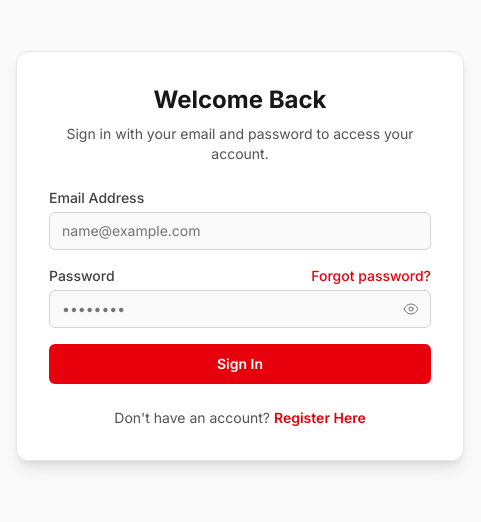
Login Page › displays error message on login failure
Type "wrong@test.com" into the field with placeholder "name@example.com" at (240, 231), box [49,212,431,250]
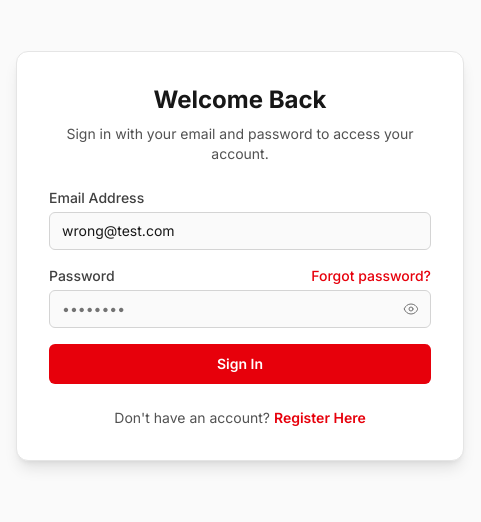
Type "wrongpass" into the password field with placeholder "••••••••" at (240, 309), box [49,290,431,328]
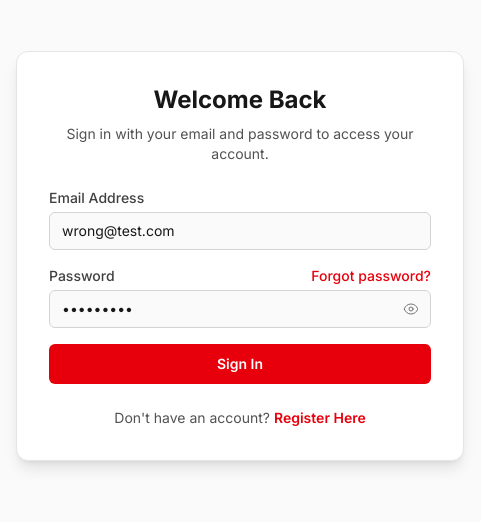
Submit the form from the button "Sign In", box [49,344,431,384]
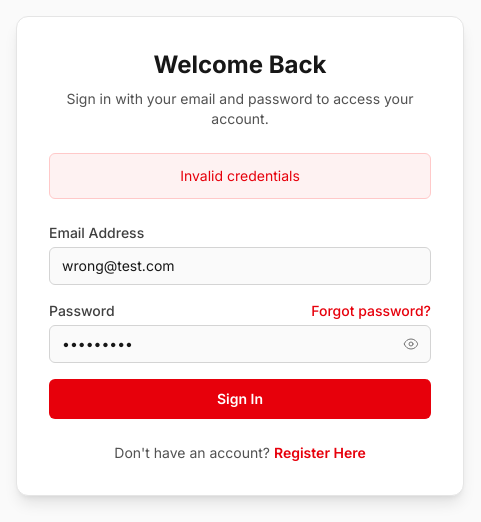
Check: the text "Invalid credentials" is shown, box [49,153,431,199]
